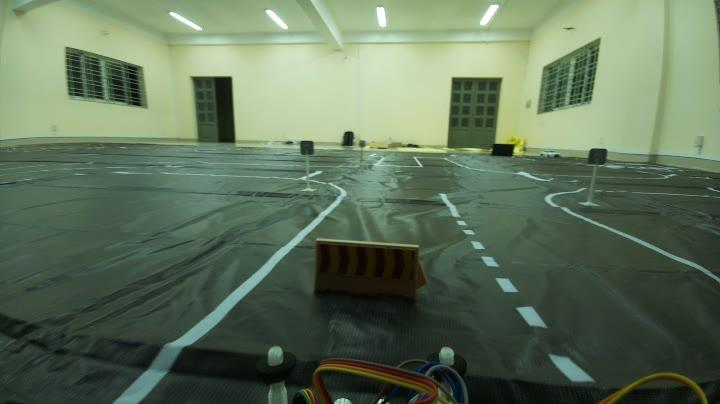roadblock: (308, 231, 426, 307)
